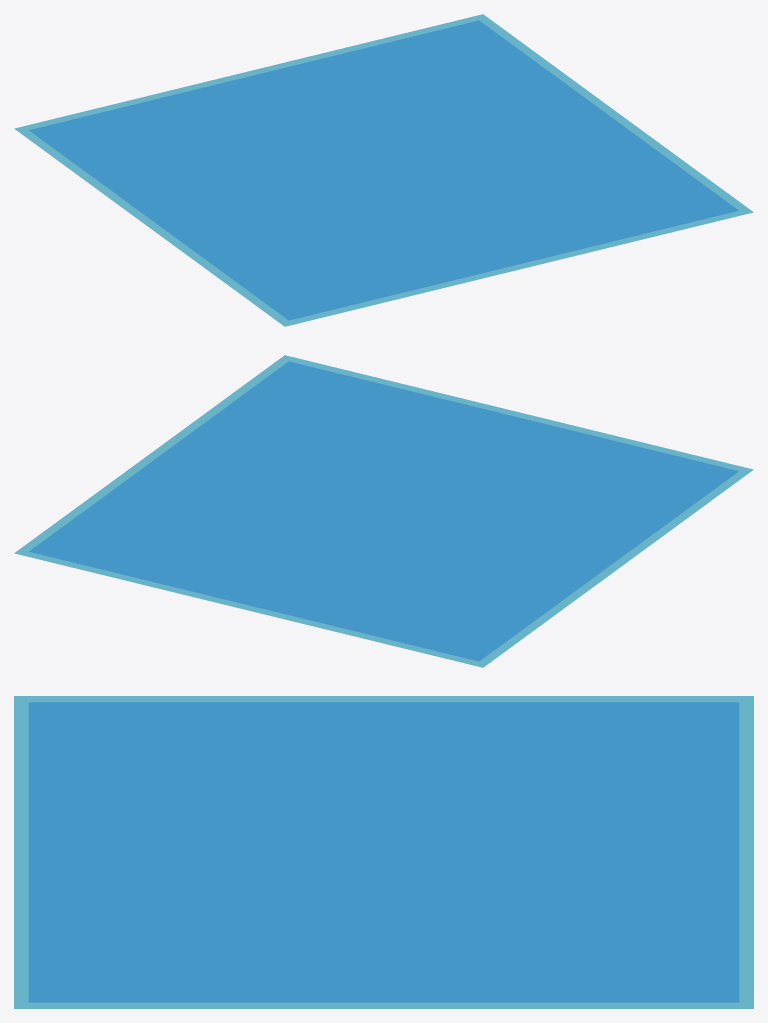
File: plane_ground_p03.FBX
The picture shows the model from 3 angles, top to bottom: view 1: azimuth 30°, elevation 25°; view 2: azimuth 150°, elevation 25°; view 3: azimuth 270°, elevation 25°; orthographic projection. The views are drawn at different scales.
Visible parts, largest first — view 1: plane_ground_p03; view 2: plane_ground_p03; view 3: plane_ground_p03.
Boxes of the visible parts, x1,y1,x2,y2 form: plane_ground_p03: (14, 14, 753, 326); plane_ground_p03: (14, 355, 753, 667); plane_ground_p03: (14, 696, 753, 1008).
Bounding box in the file's own units: 1000 × 1000 × 0.000521.
Materials: 1 (1 with a texture image).
